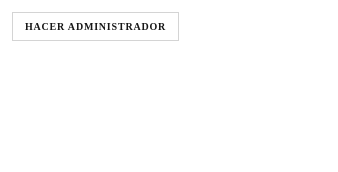
Test case: RoleControl › shows a generic message when the action throws (e.g. lost admin rights)
Click the button "Hacer administrador" at (96, 26), box 12,12 -> 179,41
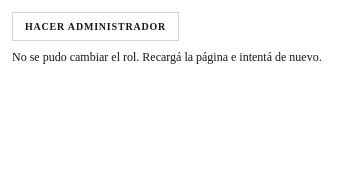
Result: the message shows "No se pudo cambiar el rol" at 12,50 -> 322,64
